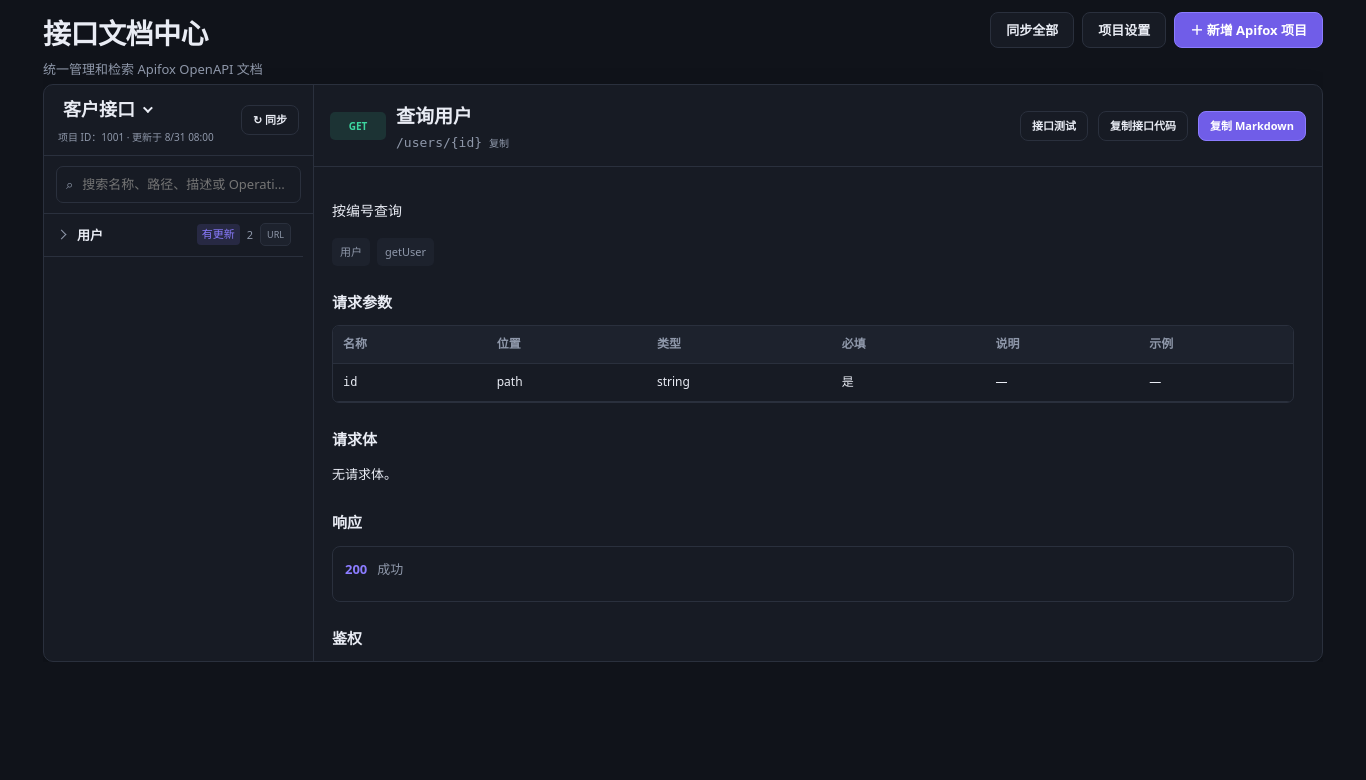
Test: ApiDocsView › 目录显示持久化更新提示，搜索展开不清除，手动展开后清除
This screenshot has width=1366, height=780.
expect the element with class "api-tree-group" shows "有更新": met, box [56, 224, 253, 245]
In the field labelled "⌕": (186, 184) [80, 174, 291, 194], type "用户"
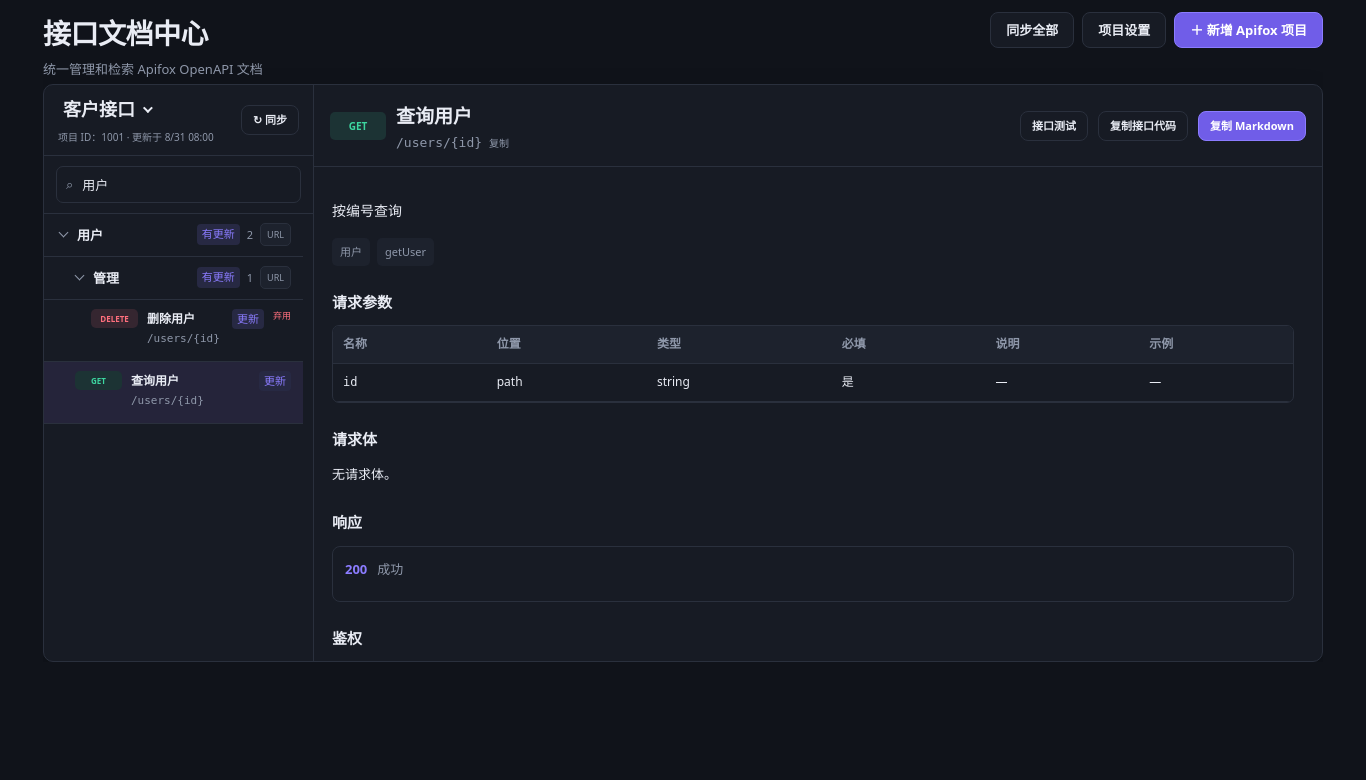
expect the 1st text with class "api-update-badge" is shown: met, box [197, 224, 240, 245]
Clear the field labelled "⌕": (186, 184) [80, 174, 291, 194]
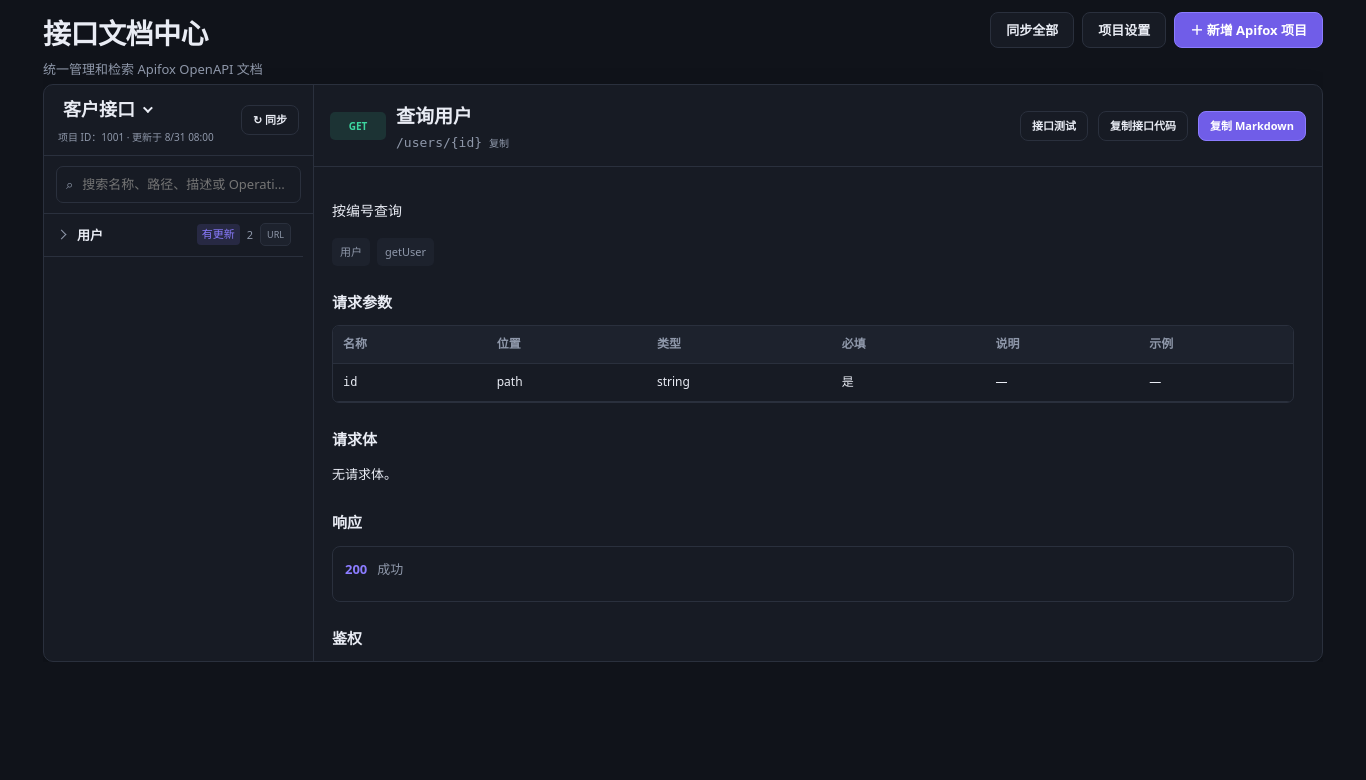
Click the button with class "api-tree-toggle": (155, 235) [56, 224, 253, 245]
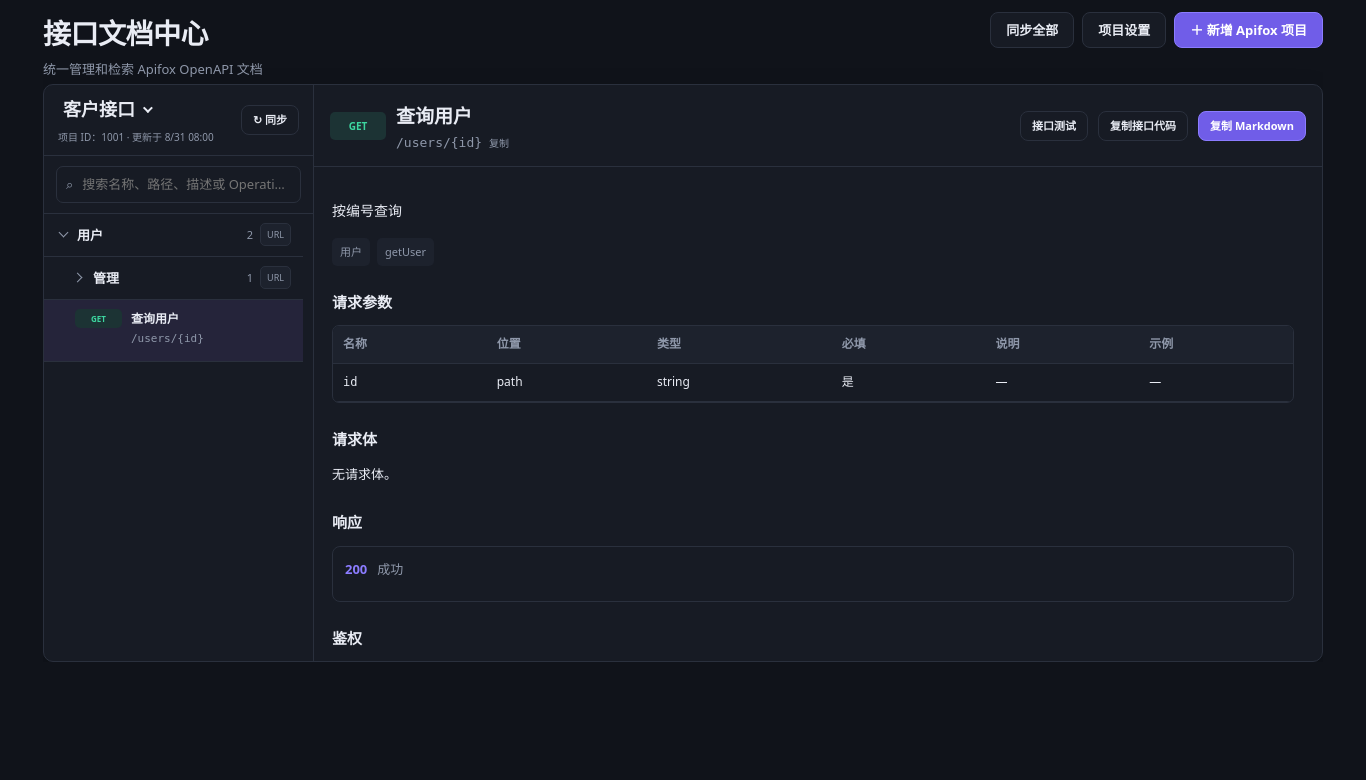
expect no elements with class "api-update-badge" are shown: met
